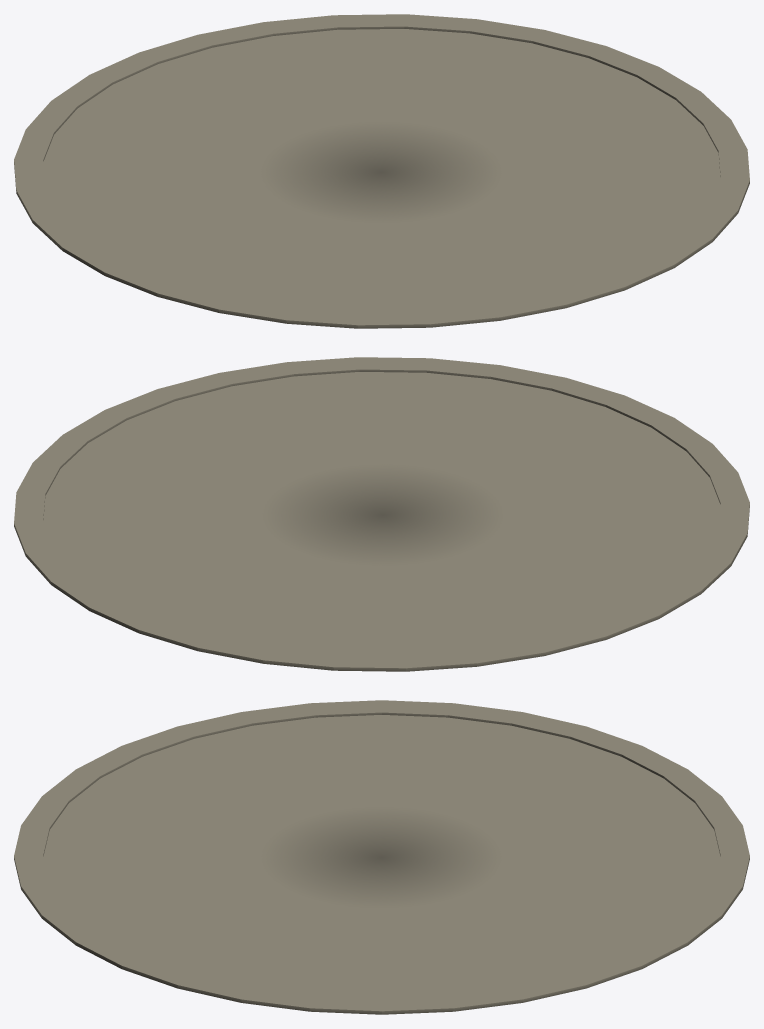
The model's file is ground.fbx.
3 renders of one model, top to bottom at view 1: azimuth 30°, elevation 25°; view 2: azimuth 150°, elevation 25°; view 3: azimuth 270°, elevation 25°, orthographic.
Parts seen in each view (by area): view 1: Ground; view 2: Ground; view 3: Ground.
Boxes of the visible parts, box(x1,y1,x2,y2) form: Ground: box(14, 14, 749, 328); Ground: box(14, 357, 749, 671); Ground: box(14, 700, 749, 1014).
Size of the model in its own units: 24 by 0.1259 by 24.
Materials: 1 (1 with a texture image).
